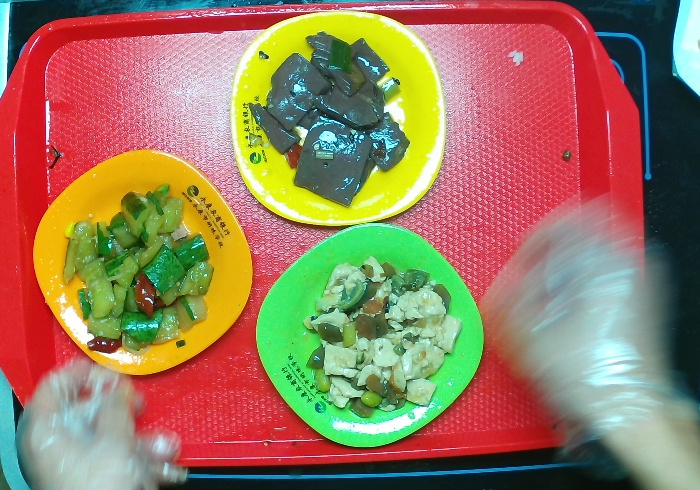YKMZ-Huang_Se_Fang_Die: (228, 9, 449, 228)
YKMZ-Ju_Se_Fang_Die: (31, 149, 255, 378)
YKMZ-Lv_Se_Fang_Die: (256, 220, 487, 451)
